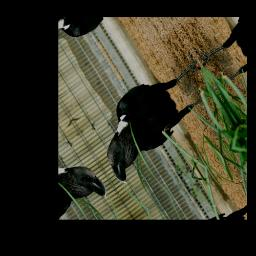Crow: (82, 47, 229, 188)
